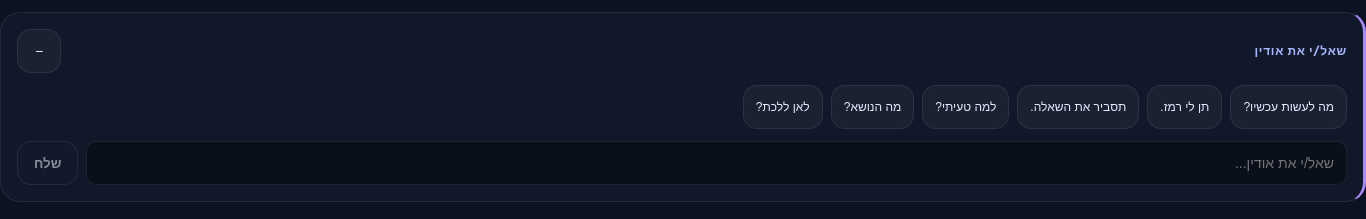
it: AskOdinPanel (general educational assistant pass) › free-text input › disables submit until text is entered
The width and height of the screenshot is (1366, 219).
expect the button with test id "ask-odin-free-text-submit" is disabled: met, box [17,141,78,185]
Type "רמז" into the field with test id "ask-odin-free-text-input". click: point(717, 163)
box: [86,141,1347,185]
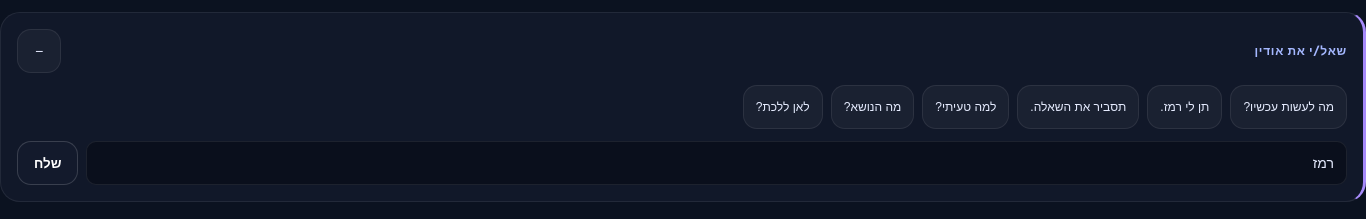
expect the button with test id "ask-odin-free-text-submit" is enabled: met, box [17,141,78,185]
